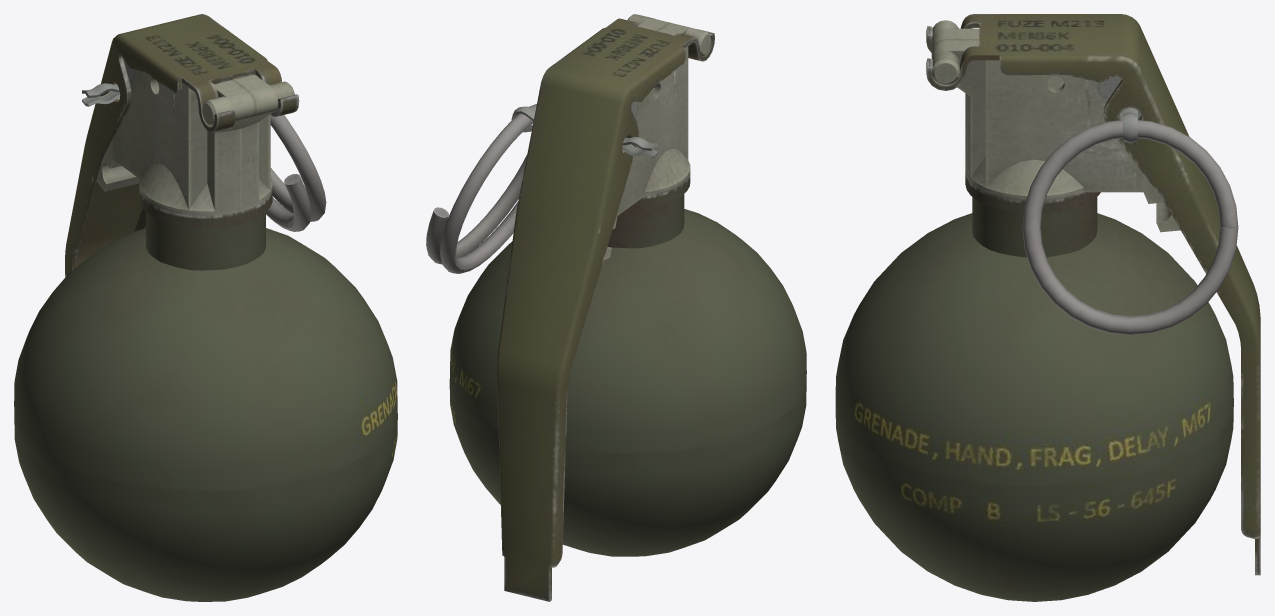
3 renders of one model, left to right at view 1: azimuth 30°, elevation 25°; view 2: azimuth 150°, elevation 25°; view 3: azimuth 270°, elevation 25°, orthographic. The views are drawn at different scales.
Visible parts, largest first — view 1: gun; view 2: gun; view 3: gun.
Part boxes in pixels (x1,y1,x2,y2): gun: [14, 14, 397, 601]; gun: [426, 14, 806, 601]; gun: [835, 14, 1260, 601].
Size of the model in its own units: 0.0626 by 0.095 by 0.0668.
Materials: 1 (1 with a texture image).
